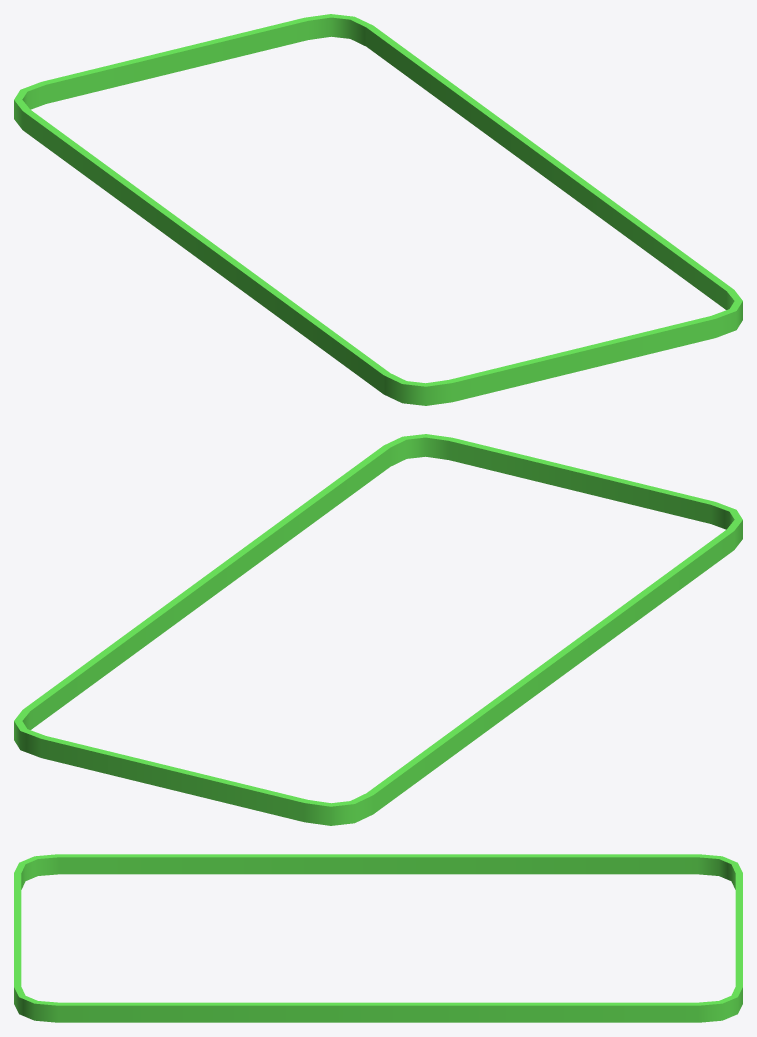
The model's file is car ring.FBX.
3 renders of one model, top to bottom at view 1: azimuth 30°, elevation 25°; view 2: azimuth 150°, elevation 25°; view 3: azimuth 270°, elevation 25°, orthographic. The views are drawn at different scales.
Visible parts, largest first — view 1: Box001; view 2: Box001; view 3: Box001.
Boxes of the visible parts, x1,y1,x2,y2 form: Box001: [14, 14, 742, 405]; Box001: [14, 434, 742, 825]; Box001: [14, 854, 742, 1022].
Bounding box in the file's own units: 4299 × 8738 × 226.
